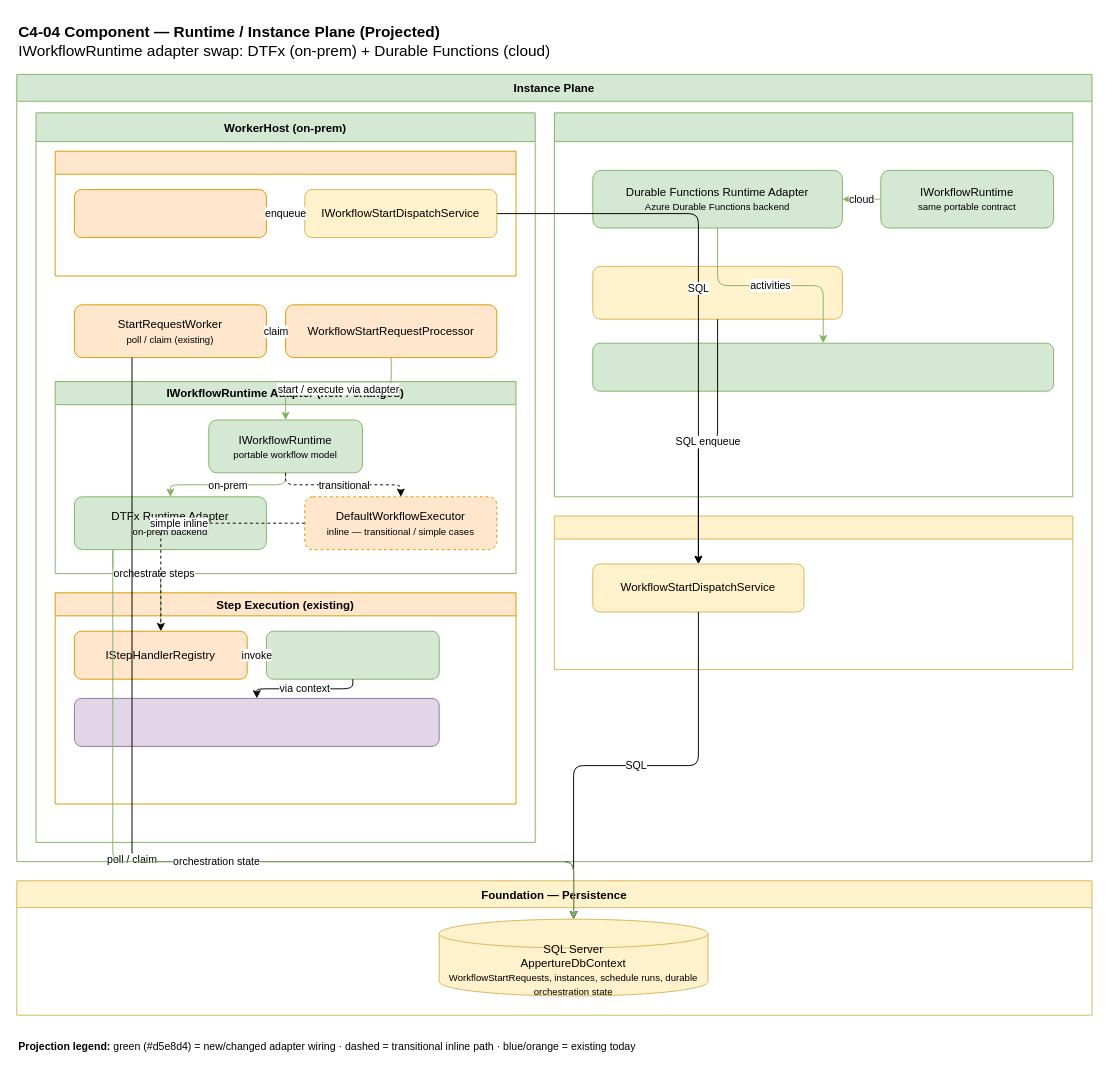
This 1109x1079 diagram has some shape labels left out. The box of each missing label's shape, as (x1, y1, x2, y2) in pixels:
Dispatch.SqlServer (existing): (553, 515, 1073, 670)
Function App (cloud): (553, 112, 1073, 497)
IStepExecutionContext slot resolution + signals: (73, 697, 439, 746)
IWorkflowStartDispatchService SQL enqueue from control plane: (592, 265, 842, 319)
Module Step Handlers: (265, 630, 439, 679)
Module Step Handlers via orchestration activities: (592, 342, 1054, 391)
Schedule Dispatch Path (existing): (54, 150, 516, 276)
ScheduleDispatchRunner: (73, 189, 266, 238)
